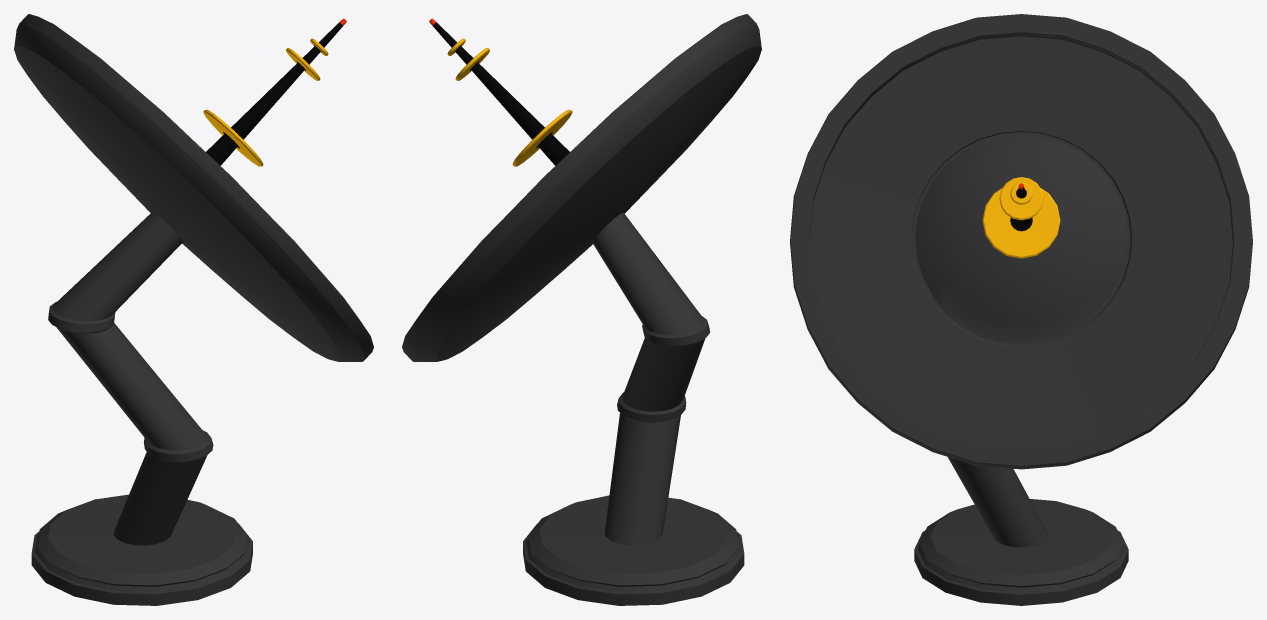
The model's file is SM_Satellite_01.fbx.
3 views of the same model, side by side, from view 1: azimuth 30°, elevation 25°; view 2: azimuth 150°, elevation 25°; view 3: azimuth 270°, elevation 25° (orthographic). The views are drawn at different scales.
Parts seen in each view (by area): view 1: Satelite_01.001; view 2: Satelite_01.001; view 3: Satelite_01.001.
Boxes of the visible parts, x1,y1,x2,y2 form: Satelite_01.001: (14,14,373,605); Satelite_01.001: (402,14,761,605); Satelite_01.001: (790,14,1252,605).
Size of the model in its own units: 8.16 by 13.9 by 11.33.
